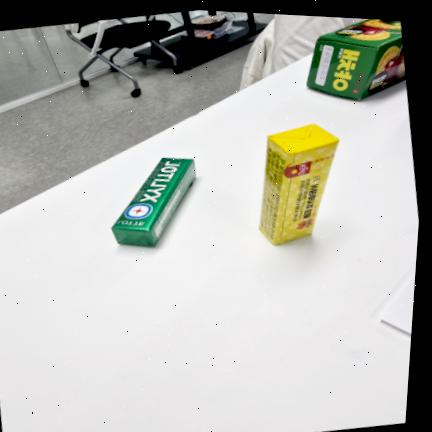gum_green: (112, 158, 196, 247)
gum_yellow: (259, 124, 339, 245)
